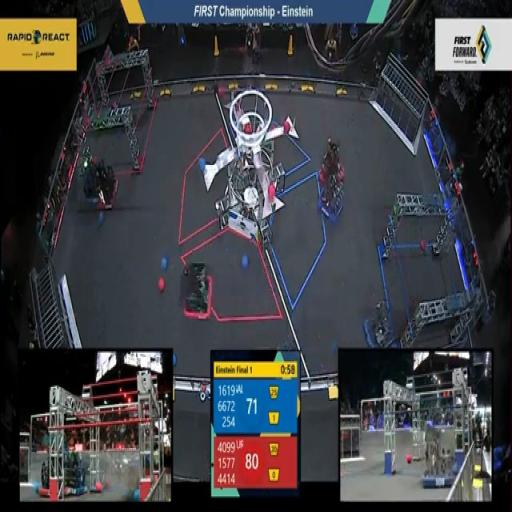robot: (179, 258, 215, 330), (361, 297, 400, 358), (313, 134, 346, 186), (317, 176, 347, 228), (80, 147, 106, 204), (92, 168, 120, 218)
